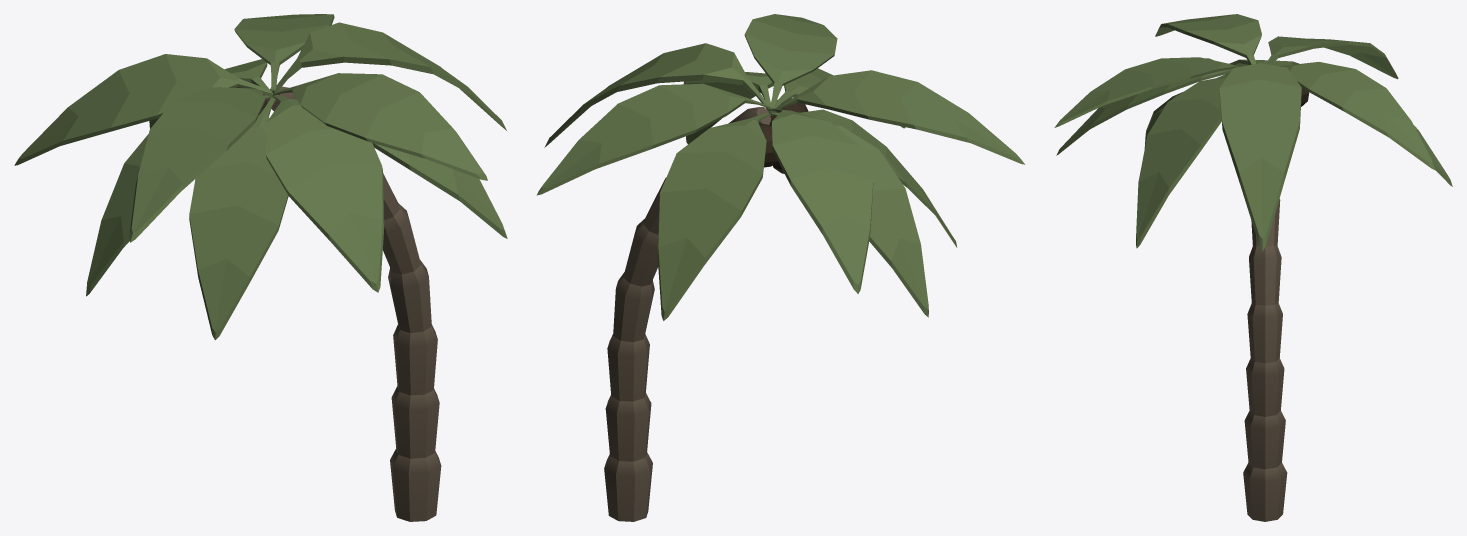
The model's file is MDL_Palm_Tree_Simple.fbx.
The picture shows the model from 3 angles, left to right: view 1: azimuth 30°, elevation 25°; view 2: azimuth 150°, elevation 25°; view 3: azimuth 270°, elevation 25°; orthographic projection. The views are drawn at different scales.
Parts seen in each view (by area): view 1: Palm_simple; view 2: Palm_simple; view 3: Palm_simple.
Boxes of the visible parts, x1,y1,x2,y2 form: Palm_simple: [14, 14, 507, 521]; Palm_simple: [536, 14, 1024, 521]; Palm_simple: [1054, 14, 1452, 521].
Size of the model in its own units: 0.0675 by 0.0721 by 0.0637.
